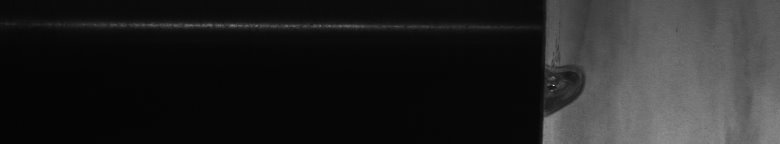hb: (556, 46, 592, 120)
